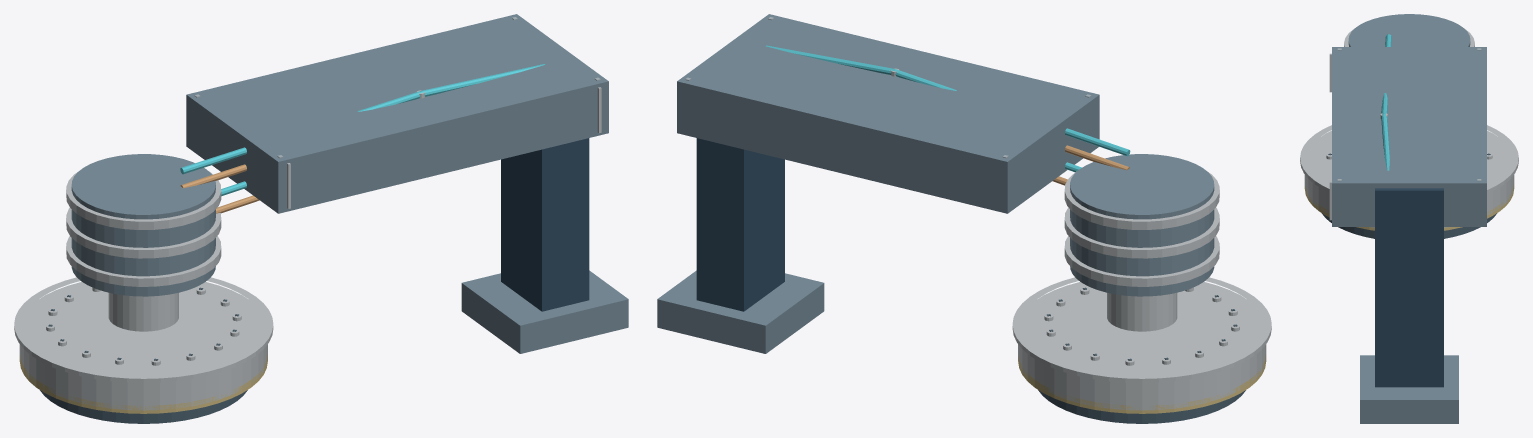
The model's file is 05_L73_PrecisionWaferCarrierHead.glb.
3 renders of one model, left to right at view 1: azimuth 30°, elevation 25°; view 2: azimuth 150°, elevation 25°; view 3: azimuth 270°, elevation 25°, orthographic. The views are drawn at different scales.
Parts seen in each view (by area): view 1: PrecisionWaferCarrierHead_Node_0000, PrecisionWaferCarrierHead_Node_0014, PrecisionWaferCarrierHead_Node_0009, PrecisionWaferCarrierHead_Node_0007, PrecisionWaferCarrierHead_Node_0008, PrecisionWaferCarrierHead_Node_0015, PrecisionWaferCarrierHead_Node_0013, PrecisionWaferCarrierHead_Node_0012, PrecisionWaferCarrierHead_Node_0010, PrecisionWaferCarrierHead_Node_0011, PrecisionWaferCarrierHead_Node_0018, PrecisionWaferCarrierHead_Node_0016 (+2 smaller); view 2: PrecisionWaferCarrierHead_Node_0000, PrecisionWaferCarrierHead_Node_0014, PrecisionWaferCarrierHead_Node_0009, PrecisionWaferCarrierHead_Node_0007, PrecisionWaferCarrierHead_Node_0008, PrecisionWaferCarrierHead_Node_0015, PrecisionWaferCarrierHead_Node_0013, PrecisionWaferCarrierHead_Node_0012, PrecisionWaferCarrierHead_Node_0011, PrecisionWaferCarrierHead_Node_0010, PrecisionWaferCarrierHead_Node_0016, PrecisionWaferCarrierHead_Node_0018 (+2 smaller); view 3: PrecisionWaferCarrierHead_Node_0000, PrecisionWaferCarrierHead_Node_0007, PrecisionWaferCarrierHead_Node_0008, PrecisionWaferCarrierHead_Node_0009, PrecisionWaferCarrierHead_Node_0014, PrecisionWaferCarrierHead_Node_0015, PrecisionWaferCarrierHead_Node_0016, PrecisionWaferCarrierHead_Node_0018, PrecisionWaferCarrierHead_Node_0070.
Boxes of the visible parts, x1,y1,x2,y2 form: PrecisionWaferCarrierHead_Node_0000: (186, 14, 608, 213); PrecisionWaferCarrierHead_Node_0014: (19, 282, 267, 410); PrecisionWaferCarrierHead_Node_0009: (71, 154, 215, 296); PrecisionWaferCarrierHead_Node_0007: (501, 138, 589, 311); PrecisionWaferCarrierHead_Node_0008: (461, 270, 628, 353); PrecisionWaferCarrierHead_Node_0015: (14, 277, 273, 383); PrecisionWaferCarrierHead_Node_0013: (108, 292, 178, 331); PrecisionWaferCarrierHead_Node_0012: (66, 171, 221, 229); PrecisionWaferCarrierHead_Node_0010: (66, 236, 221, 286); PrecisionWaferCarrierHead_Node_0011: (66, 208, 221, 258); PrecisionWaferCarrierHead_Node_0018: (19, 354, 267, 413); PrecisionWaferCarrierHead_Node_0016: (40, 390, 247, 423); PrecisionWaferCarrierHead_Node_0000: (677, 14, 1099, 213); PrecisionWaferCarrierHead_Node_0014: (1018, 282, 1266, 410); PrecisionWaferCarrierHead_Node_0009: (1070, 154, 1214, 296); PrecisionWaferCarrierHead_Node_0007: (696, 138, 784, 311); PrecisionWaferCarrierHead_Node_0008: (657, 270, 824, 353); PrecisionWaferCarrierHead_Node_0015: (1012, 277, 1271, 383); PrecisionWaferCarrierHead_Node_0013: (1107, 292, 1177, 331); PrecisionWaferCarrierHead_Node_0012: (1064, 171, 1219, 229); PrecisionWaferCarrierHead_Node_0011: (1064, 207, 1219, 258); PrecisionWaferCarrierHead_Node_0010: (1064, 236, 1219, 286); PrecisionWaferCarrierHead_Node_0016: (1038, 390, 1245, 423); PrecisionWaferCarrierHead_Node_0018: (1018, 354, 1266, 413); PrecisionWaferCarrierHead_Node_0000: (1332, 47, 1486, 226); PrecisionWaferCarrierHead_Node_0007: (1375, 188, 1443, 387); PrecisionWaferCarrierHead_Node_0008: (1360, 355, 1458, 423); PrecisionWaferCarrierHead_Node_0009: (1348, 14, 1470, 46); PrecisionWaferCarrierHead_Node_0014: (1304, 130, 1514, 227); PrecisionWaferCarrierHead_Node_0015: (1300, 125, 1518, 193); PrecisionWaferCarrierHead_Node_0016: (1321, 213, 1497, 238); PrecisionWaferCarrierHead_Node_0018: (1304, 184, 1514, 230); PrecisionWaferCarrierHead_Node_0070: (1381, 114, 1389, 170).
Size of the model in its own units: 4.81 by 2.21 by 1.9.
